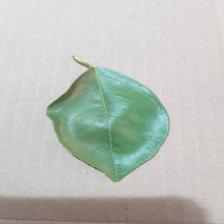greening: (57, 111, 165, 163)
